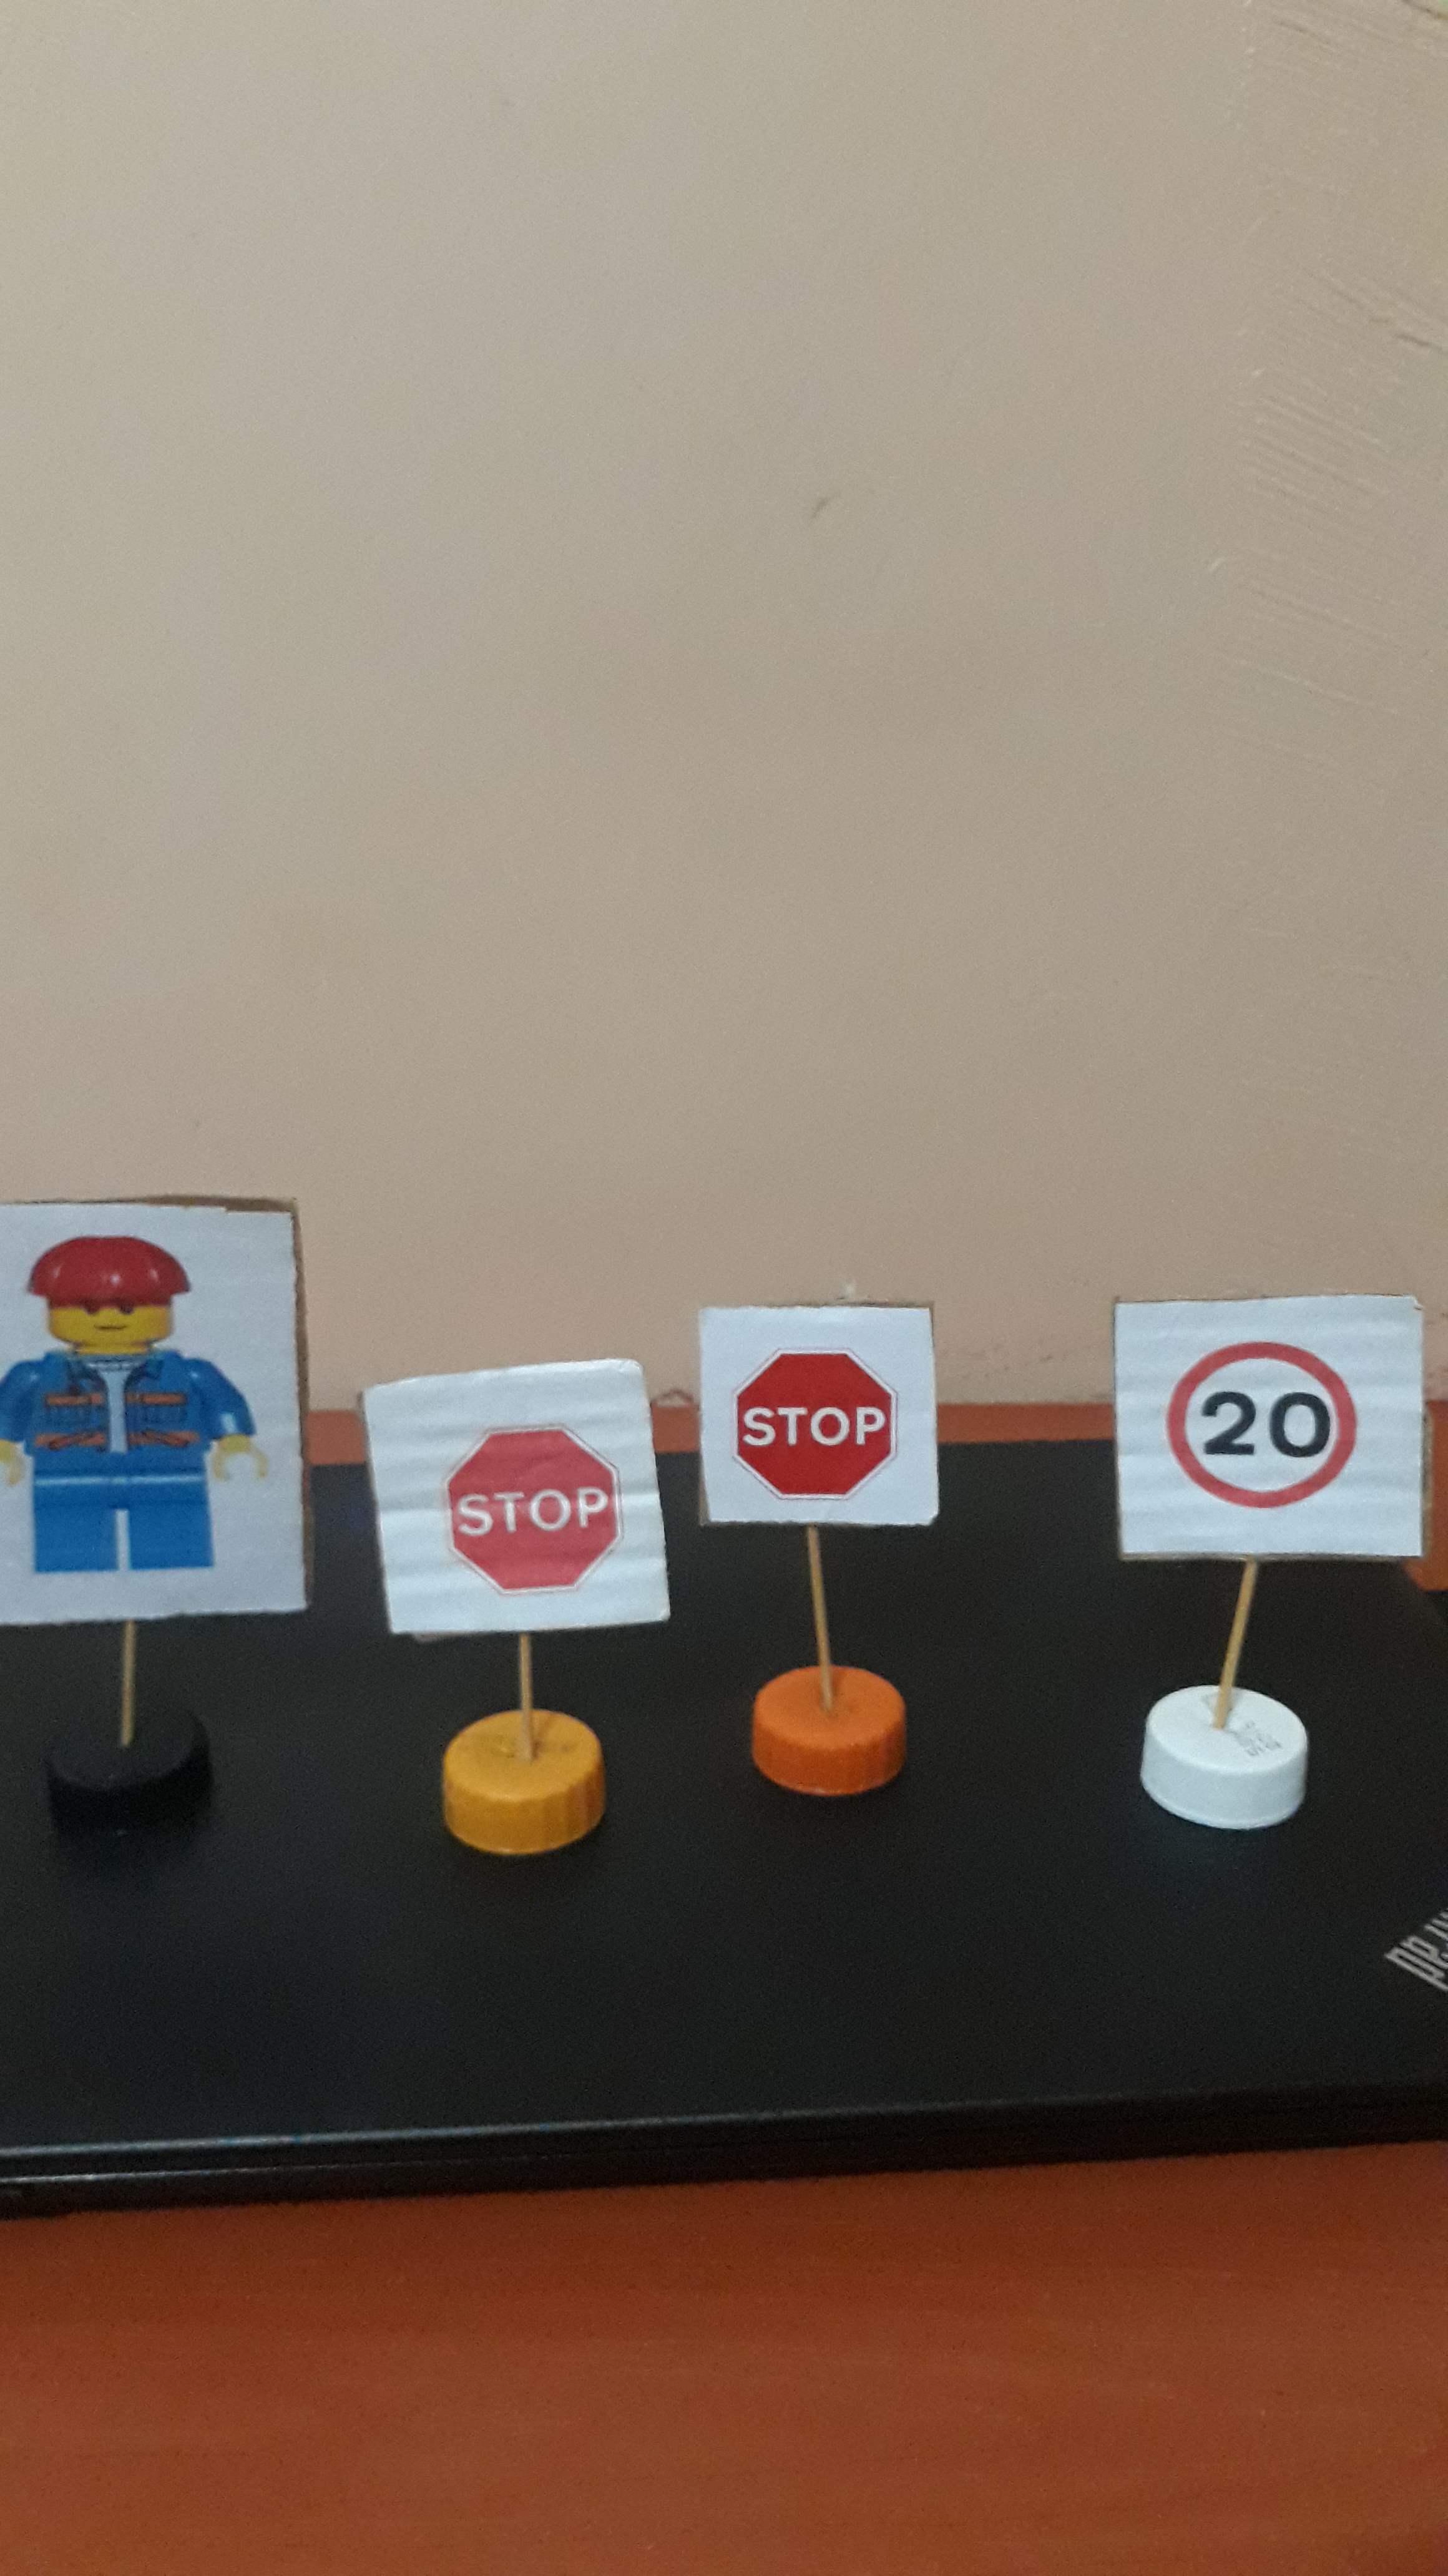20 kph: (1126, 1323, 1395, 1534)
pedestrian: (1, 1219, 275, 1561)
stop: (384, 1389, 654, 1623), (708, 1319, 923, 1510)
